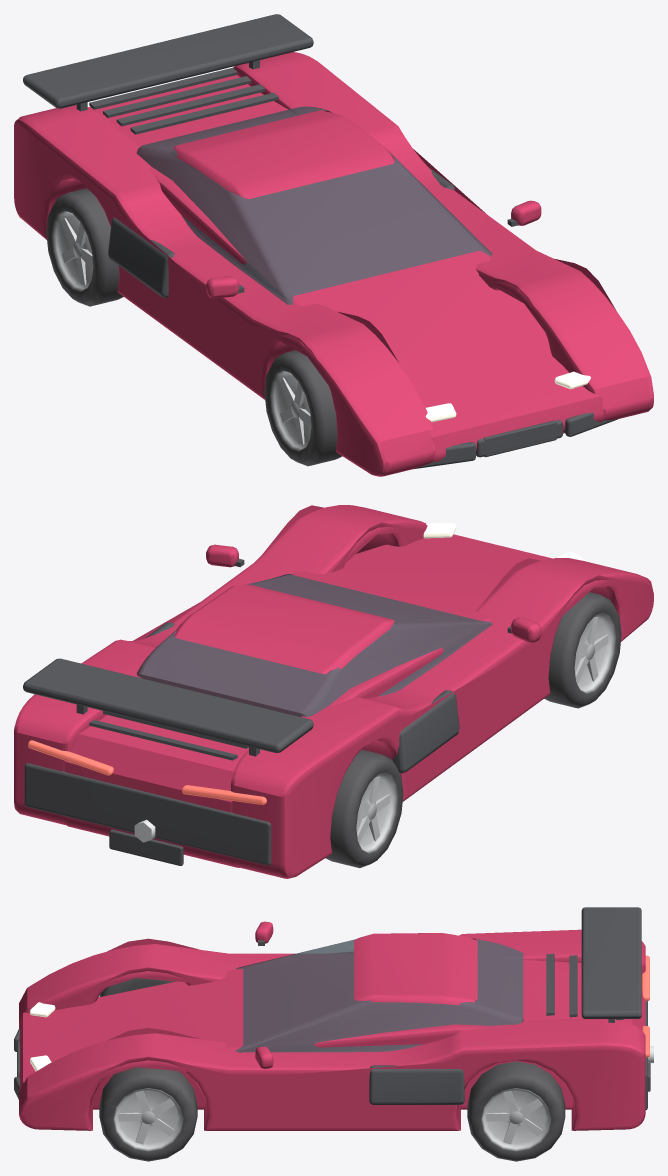
Rendered from lambo.glb.
3 views of the same model, one above another, from view 1: azimuth 30°, elevation 25°; view 2: azimuth 150°, elevation 25°; view 3: azimuth 270°, elevation 25° (orthographic). The views are drawn at different scales.
Visible parts, largest first — view 1: paint, glass, wheel (×2), trim, wing0, head; view 2: paint, glass, trim, wheel (×2), wing0, tail, head; view 3: paint, glass, wheel (×3), wing0, trim, head, tail.
Boxes of the visible parts, x1=… form: paint: x1=14, y1=52, x2=653, y2=476; glass: x1=136, y1=106, x2=492, y2=304; wheel (×2): x1=46, y1=188, x2=342, y2=466; trim: x1=89, y1=67, x2=619, y2=469; wing0: x1=23, y1=14, x2=313, y2=111; head: x1=425, y1=371, x2=590, y2=422; paint: x1=14, y1=505, x2=653, y2=878; glass: x1=136, y1=574, x2=492, y2=716; trim: x1=24, y1=558, x2=511, y2=865; wheel (×2): x1=325, y1=592, x2=621, y2=868; wing0: x1=23, y1=658, x2=313, y2=756; tail: x1=28, y1=740, x2=266, y2=804; head: x1=423, y1=523, x2=587, y2=561; paint: x1=19, y1=921, x2=645, y2=1130; glass: x1=235, y1=938, x2=523, y2=1052; wheel (×3): x1=99, y1=978, x2=565, y2=1161; wing0: x1=581, y1=907, x2=641, y2=1022; trim: x1=14, y1=940, x2=650, y2=1109; head: x1=30, y1=1002, x2=55, y2=1071; tail: x1=641, y1=955, x2=649, y2=1057.
Size of the model in its own units: 2.37 by 1.15 by 4.7.
